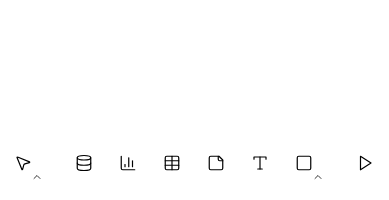
CanvasToolbar › clicking an expandable tool applies its default option and opens the menu
The image size is (389, 200).
What coordinates should you click on to do the following:
click the button with test id "canvas-tool-shape"
I would click on:
 (304, 163)
Its box is [284,143,324,183].
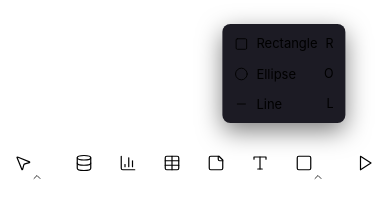
Check: the menu item with test id "canvas-tool-shape-ellipse" is shown, box [234,66,334,82]
